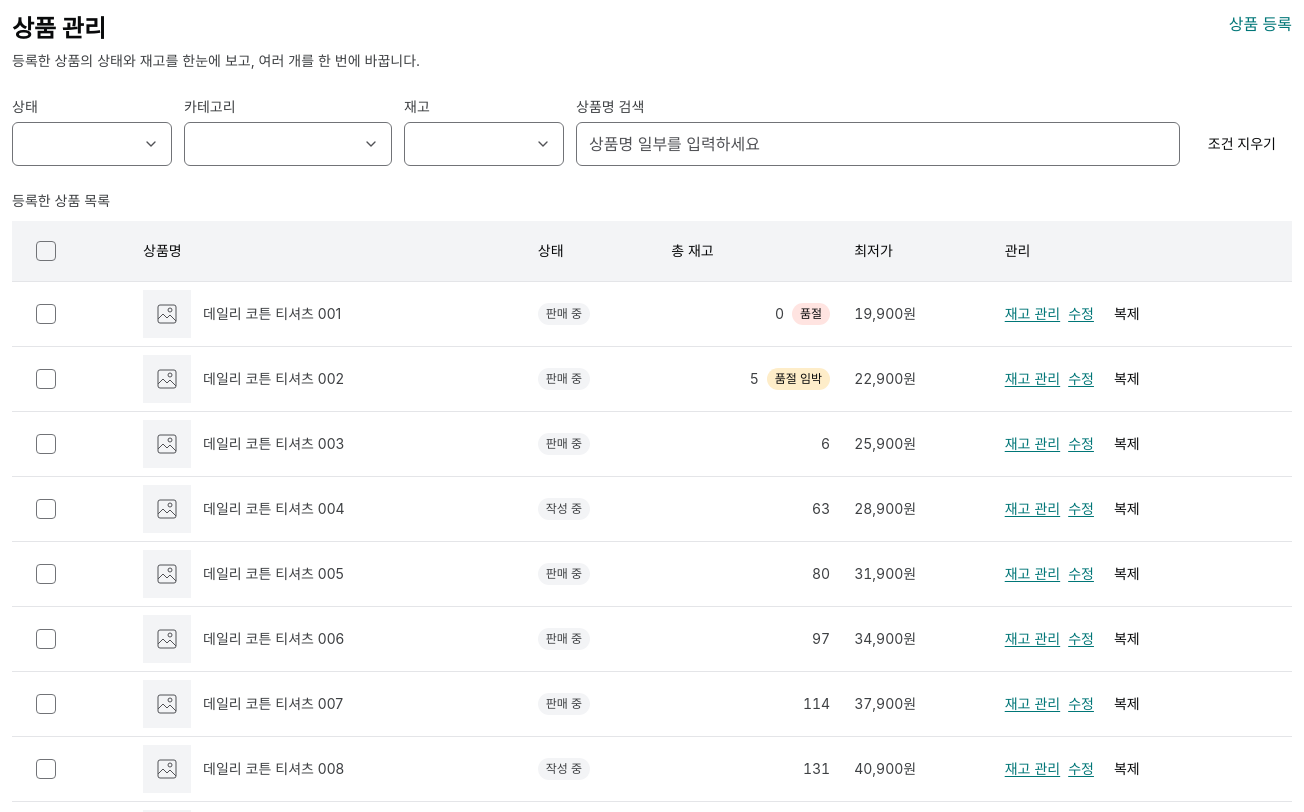
Scenario: filters (F3) › narrows by status
What coordinates should you click on to do the following:
click the 1st dropdown named "상태"
I would click on:
 (92, 144)
Its box is left=12, top=122, right=172, bottom=166.
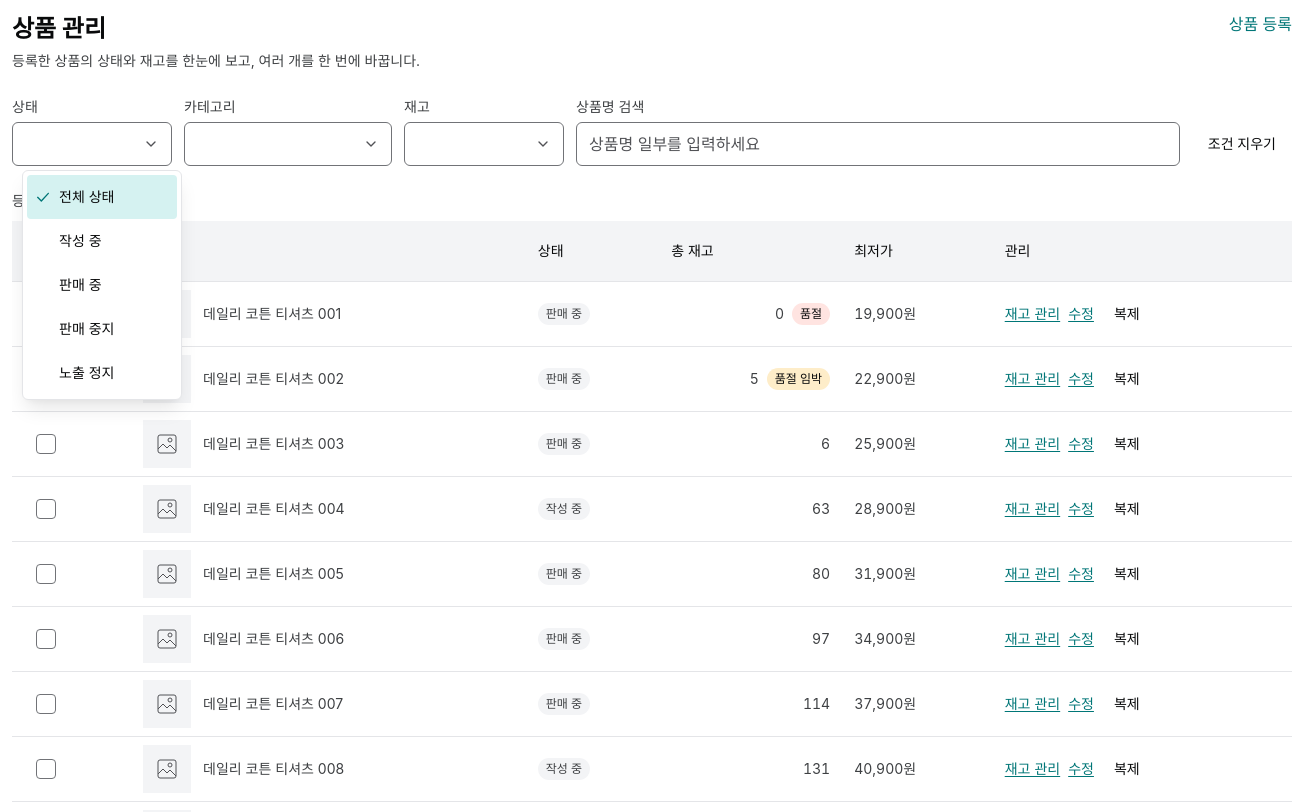
What coordinates should you click on to do the following:
click the option "작성 중"
I would click on:
 (80, 240)
Its box is left=59, top=232, right=102, bottom=249.
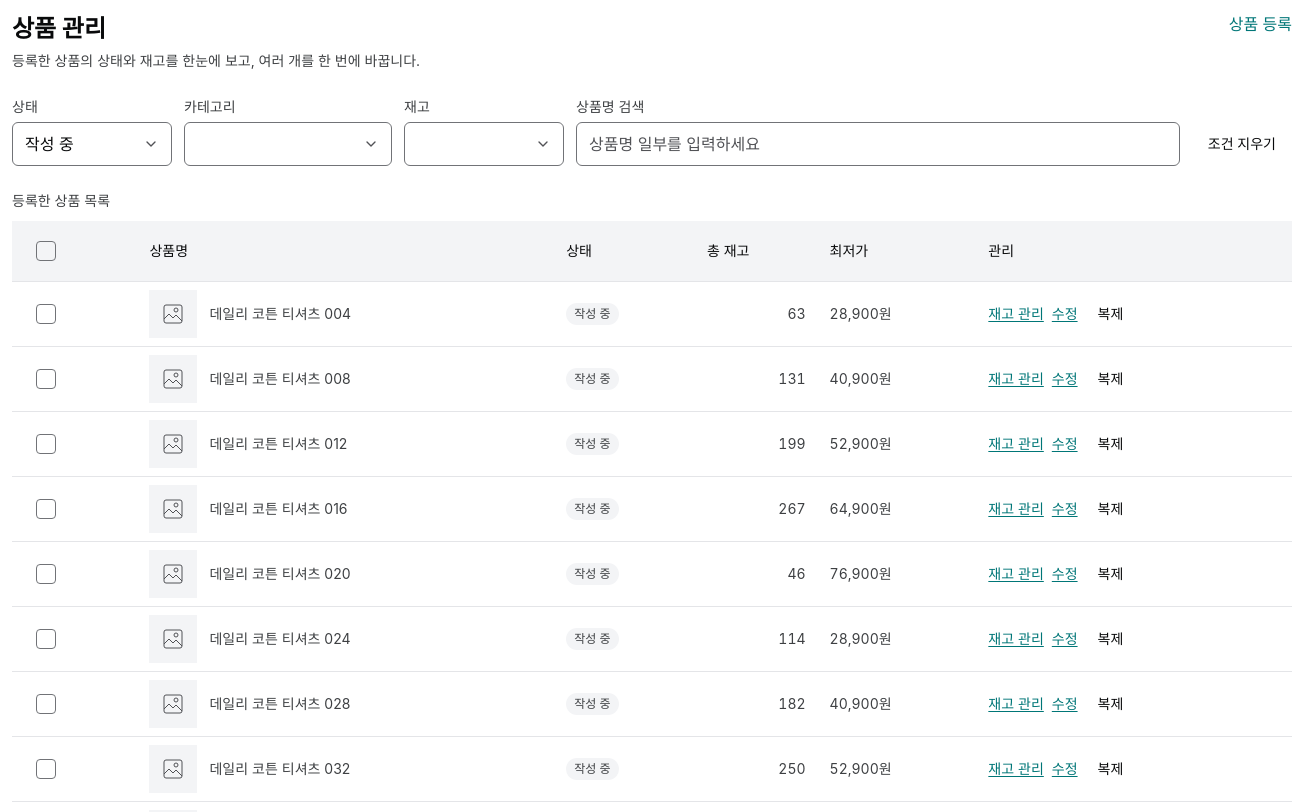
Result: the text "작성 중" is shown 20 times
